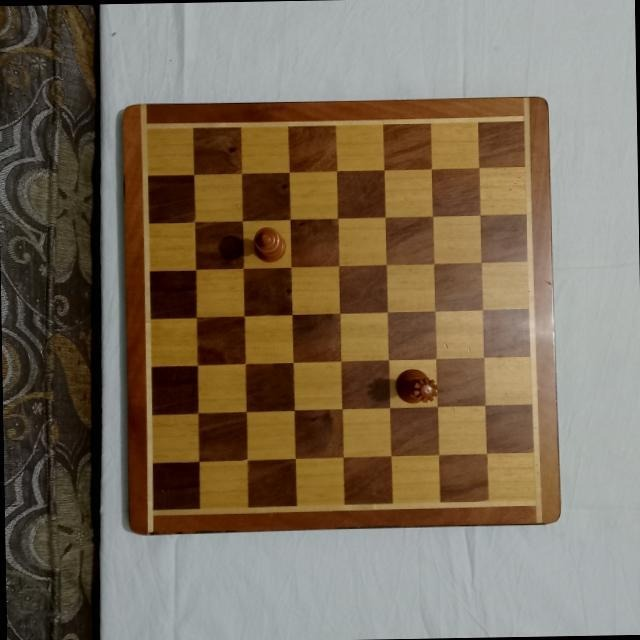white-king: (250, 226, 285, 262)
white-queen: (390, 366, 438, 405)
